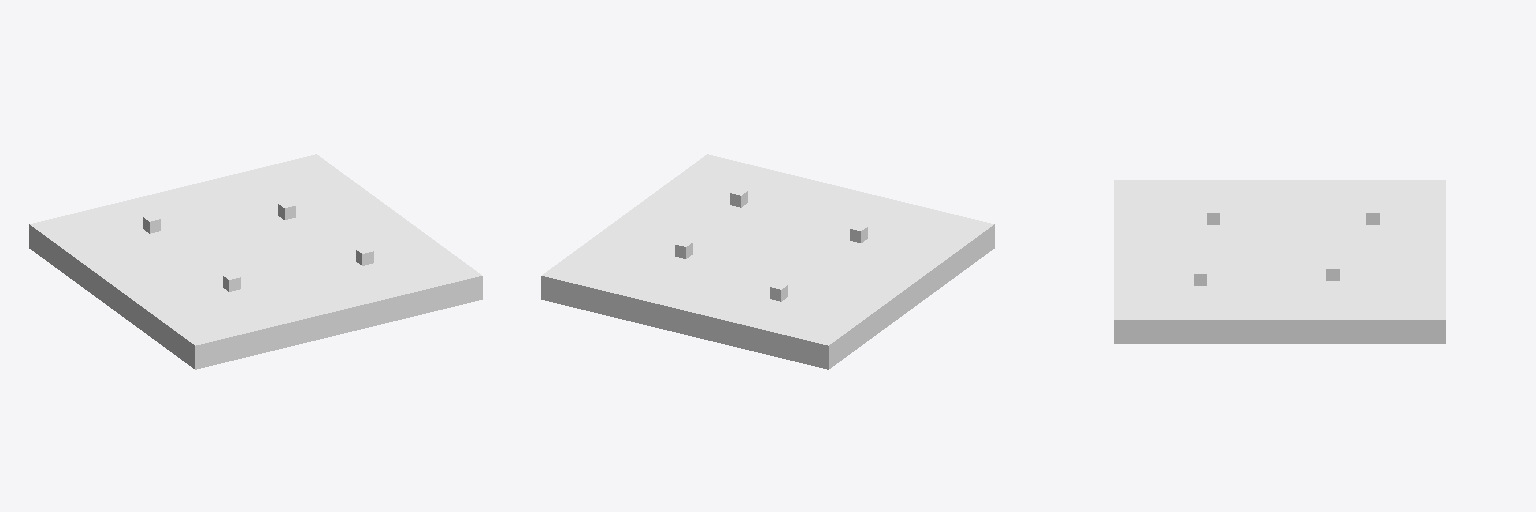
Rendered from carrotGardenBed-1.obj.
3 views of the same model, side by side, from view 1: azimuth 30°, elevation 25°; view 2: azimuth 150°, elevation 25°; view 3: azimuth 270°, elevation 25° (orthographic).
Parts seen in each view (by area): view 1: object 1; view 2: object 1; view 3: object 1.
Part boxes in pixels (x1,y1,x2,y2): object 1: (29,154,482,369); object 1: (541,154,994,369); object 1: (1114,180,1445,343).
Bounding box in the file's own units: 2.5 × 0.3 × 2.5.